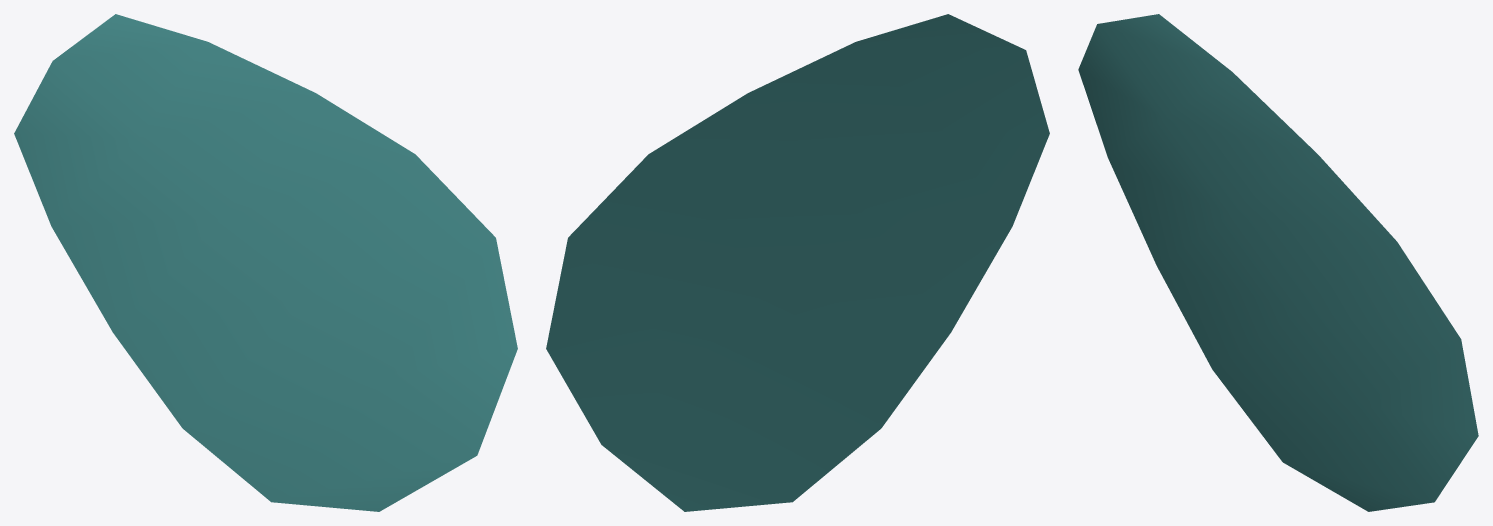
Rendered from budgie_feather_flight_tertiary_026.obj.
The picture shows the model from 3 angles, left to right: view 1: azimuth 30°, elevation 25°; view 2: azimuth 150°, elevation 25°; view 3: azimuth 330°, elevation 25°; orthographic projection. The views are drawn at different scales.
Parts seen in each view (by area): view 1: feather_flight_tertiary_026; view 2: feather_flight_tertiary_026; view 3: feather_flight_tertiary_026.
Boxes of the visible parts, bbox=[...] form: feather_flight_tertiary_026: bbox=[14, 14, 517, 511]; feather_flight_tertiary_026: bbox=[546, 14, 1049, 511]; feather_flight_tertiary_026: bbox=[1078, 14, 1478, 511].
Bounding box in the file's own units: 0.0127 × 0.0135 × 0.000322.
